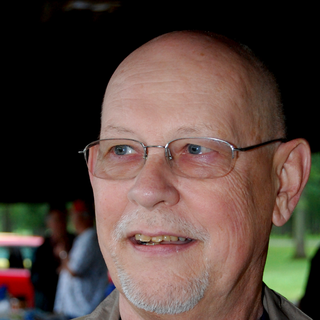eye: (103, 139, 148, 165), (175, 138, 222, 160)
